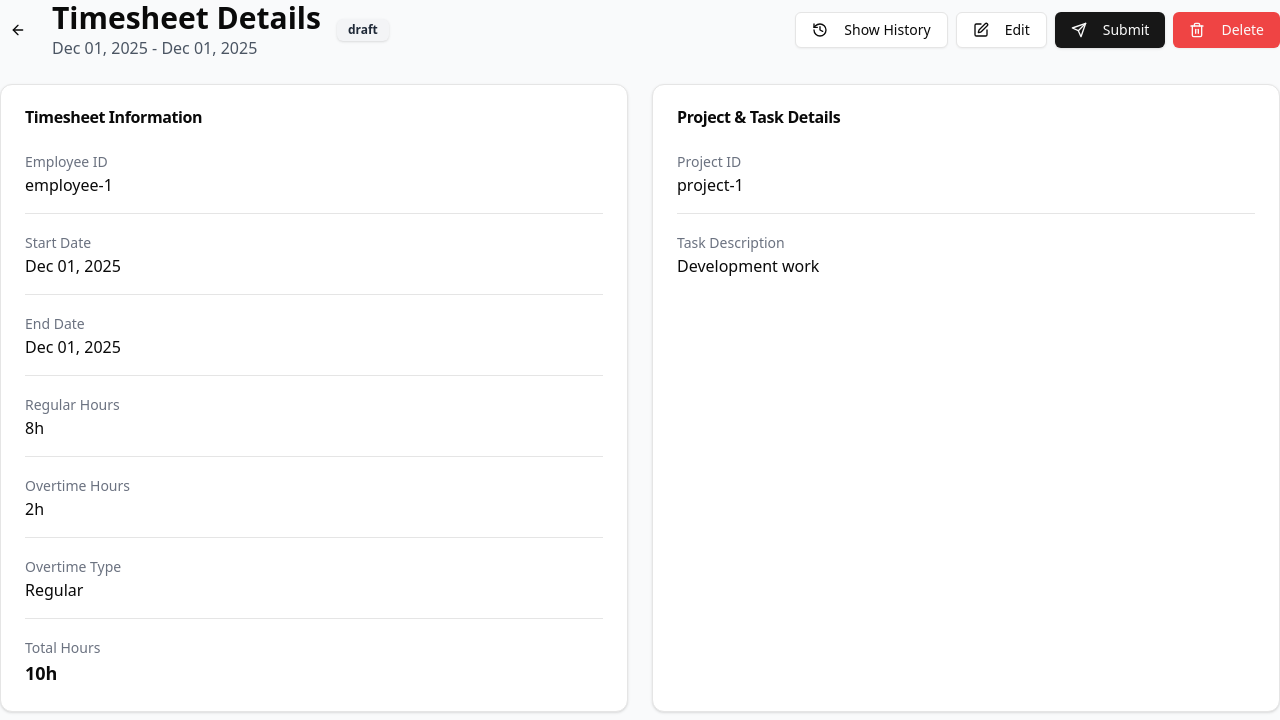
Test case: TimesheetDetail › should open delete dialog on delete click
Click the button "Delete" at (1227, 30), box [1173,12,1279,48]
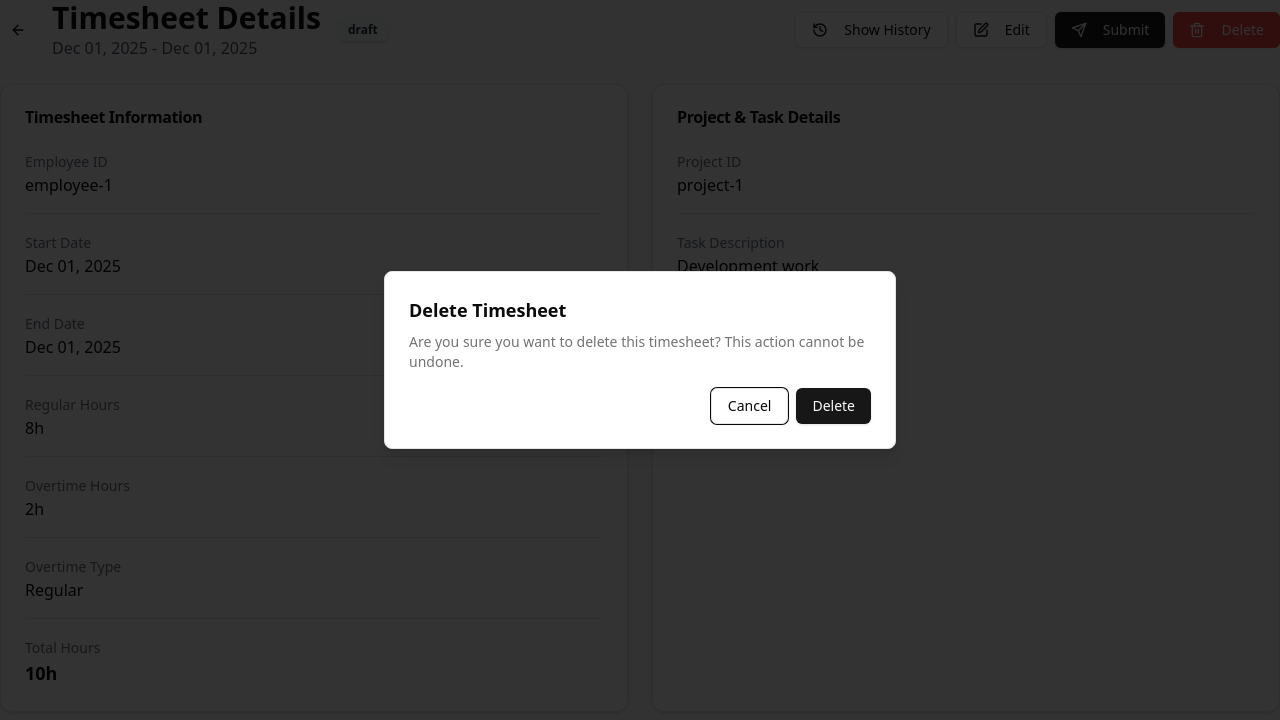
Now the heading "Delete Timesheet" is shown, box [409,298,566,322]
Now the text "Are you sure you want to delete this timesheet" is shown, box [409,332,864,371]
